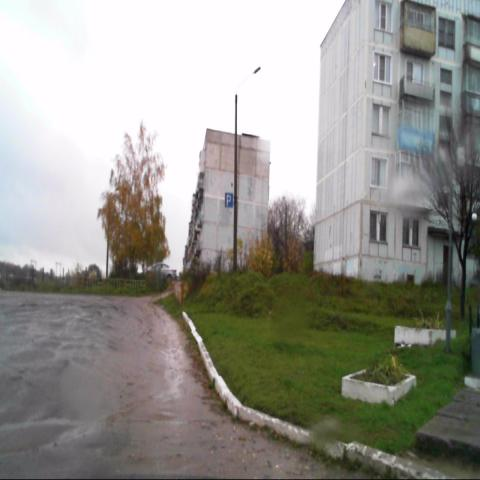6_4: (225, 192, 233, 207)
